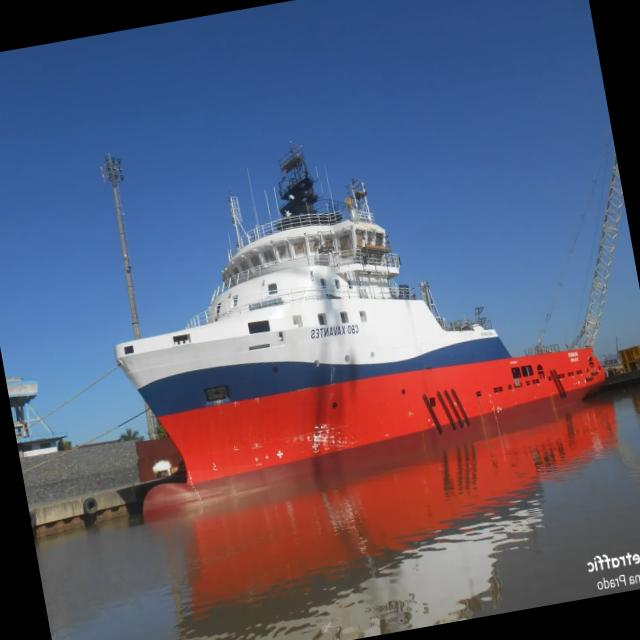Offshore: (115, 146, 605, 516)
